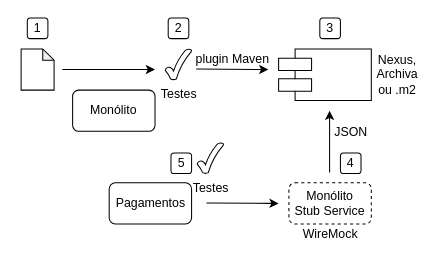
Image size: 446x263. Some labels were removed from this diagram. The centre of each missing label's shape, as x and y in pixels:
".groovy" goes at [37,69].
"stubs.jar" goes at [324,74].
